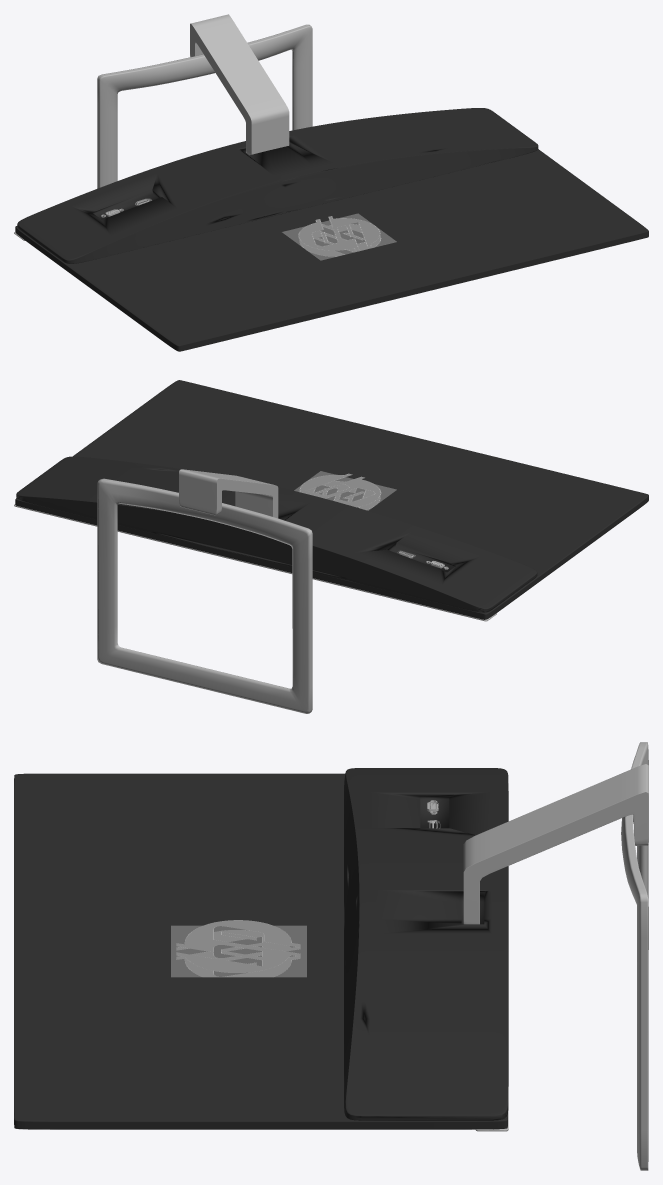
File: HP_22es_Monitor N041125.obj
3 views of the same model, one above another, from view 1: azimuth 30°, elevation 25°; view 2: azimuth 150°, elevation 25°; view 3: azimuth 270°, elevation 25° (orthographic). The views are drawn at different scales.
Visible parts, largest first — view 1: Object0062, Object003, Object002, Object006, Object0063, Object0051, Object0061; view 2: Object0062, Object003, Object002, Object006, Object0063, Object001, Object0051, Object0061; view 3: Object0062, Object003, Object002, Object006, Object0063, Object0051, Object0061.
Part boxes in pixels (<box>): Object0062: <box>69,150,645,344</box>; Object003: <box>17,108,538,263</box>; Object002: <box>97,14,312,205</box>; Object006: <box>15,149,648,351</box>; Object0063: <box>298,216,380,250</box>; Object0051: <box>282,213,396,260</box>; Object0061: <box>299,224,381,256</box>; Object0062: <box>18,381,646,574</box>; Object003: <box>16,456,537,612</box>; Object002: <box>97,469,415,713</box>; Object006: <box>15,380,648,619</box>; Object0063: <box>299,473,381,507</box>; Object001: <box>14,504,496,621</box>; Object0051: <box>294,471,396,510</box>; Object0061: <box>299,481,380,510</box>; Object0062: <box>15,775,506,1118</box>; Object003: <box>344,768,508,1120</box>; Object002: <box>427,742,648,1170</box>; Object006: <box>14,773,507,1129</box>; Object0063: <box>176,920,300,972</box>; Object0051: <box>171,925,306,977</box>; Object0061: <box>176,930,300,977</box>.
Bounding box in the file's own units: 50.06 × 21.49 × 38.55.
6 materials, 2 textured.
